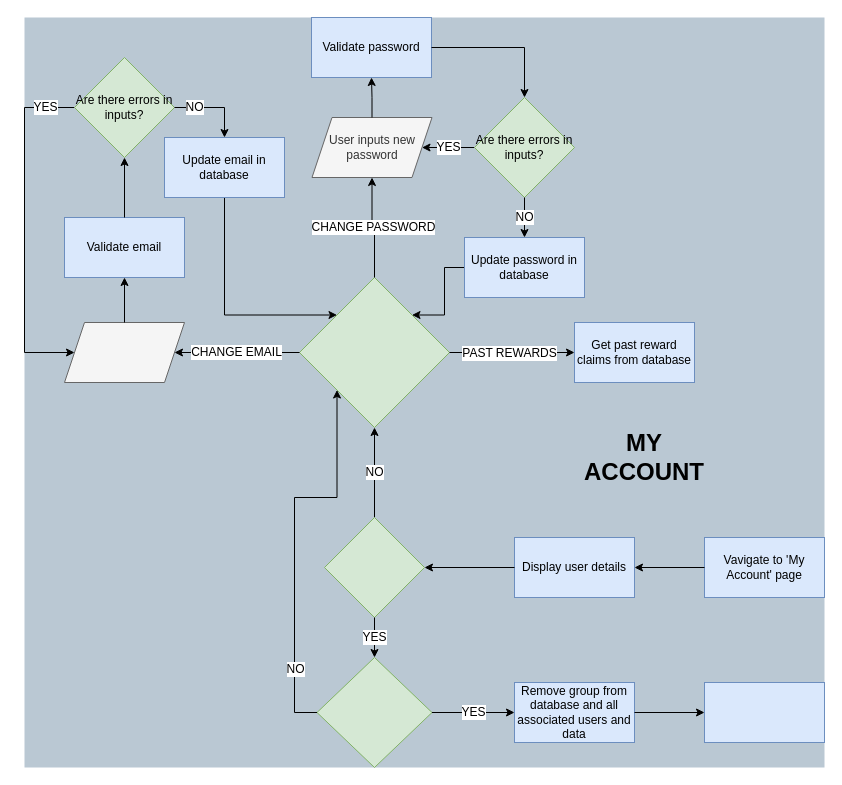
This 842x785 diagram has some shape labels left out. The shapes that lost their labels are listed below. From the top down, each one's box as (x1, y1, x2, y2) in pixels, then its label:
(64, 322, 184, 382): User inputs new email
(298, 276, 450, 428): Does the user want to change their email, password or view past reward claims?
(324, 516, 424, 618): Is the user an admin?
(316, 656, 432, 768): Does the admin want to disband their group?
(704, 682, 824, 742): Logout
